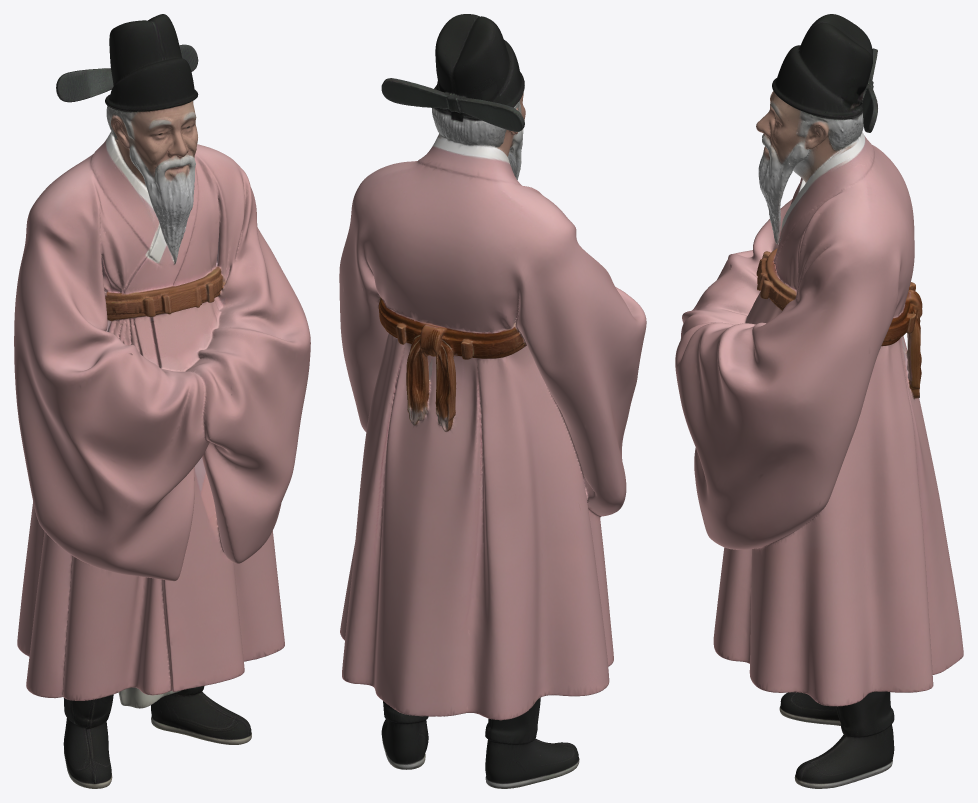
File: official_dangsangwan_texture.glb
3 renders of one model, left to right at view 1: azimuth 30°, elevation 25°; view 2: azimuth 150°, elevation 25°; view 3: azimuth 270°, elevation 25°, orthographic. The views are drawn at different scales.
Bounding box in the file's own units: 0.7364 × 1.9 × 0.6826.
1 material, 1 textured.
